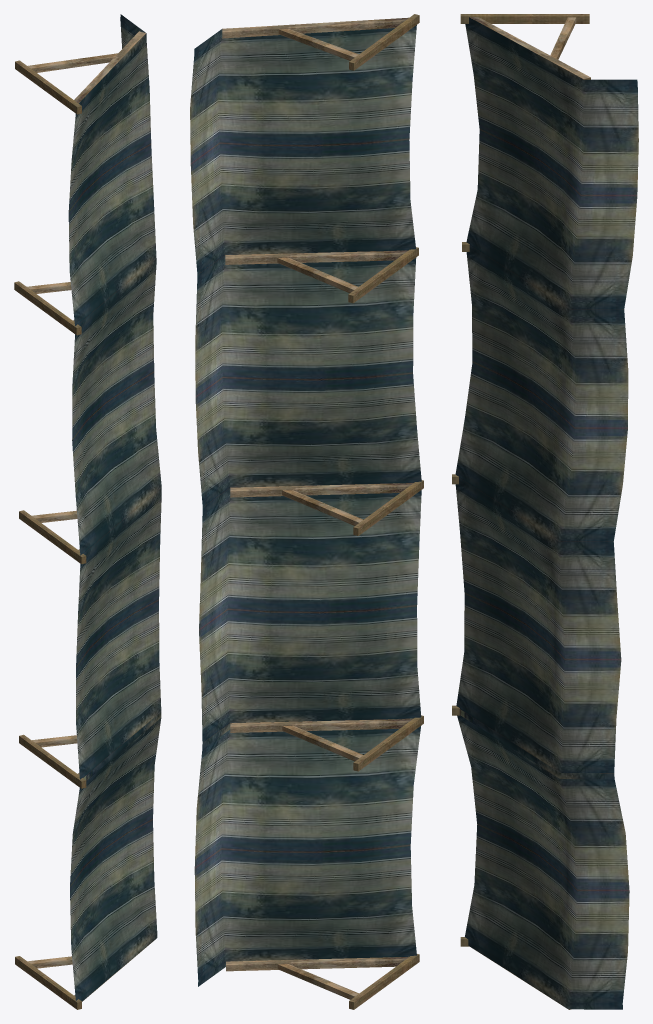
The model's file is awning_desert_market_medium2.glb.
3 renders of one model, left to right at view 1: azimuth 30°, elevation 25°; view 2: azimuth 150°, elevation 25°; view 3: azimuth 270°, elevation 25°, orthographic. The views are drawn at different scales.
Size of the model in its own units: 36.9 by 240 by 43.71.
1 material, 1 textured.
